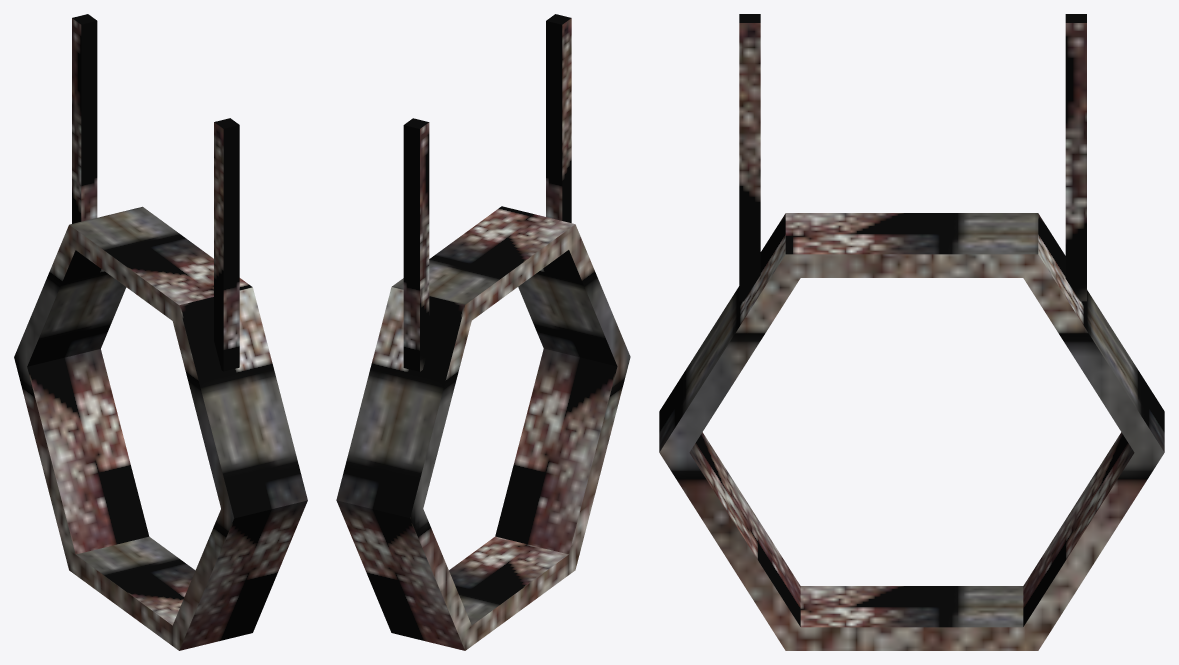
The model's file is Urban_PipeHanger_Model.fbx.
The picture shows the model from 3 angles, left to right: view 1: azimuth 30°, elevation 25°; view 2: azimuth 150°, elevation 25°; view 3: azimuth 270°, elevation 25°; orthographic projection. The views are drawn at different scales.
Parts seen in each view (by area): view 1: Urban_PipeHanger_Mesh; view 2: Urban_PipeHanger_Mesh; view 3: Urban_PipeHanger_Mesh.
Part boxes in pixels (box(x1,y1,x2,y2)): Urban_PipeHanger_Mesh: box(14, 14, 307, 650); Urban_PipeHanger_Mesh: box(336, 14, 630, 650); Urban_PipeHanger_Mesh: box(659, 14, 1164, 650).
Bounding box in the file's own units: 0.1097 × 0.755 × 0.5676.
